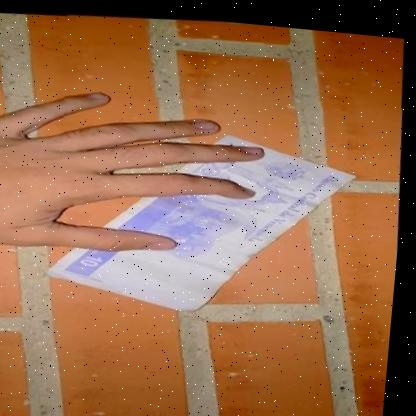ten-front-vef: (42, 110, 369, 328)
